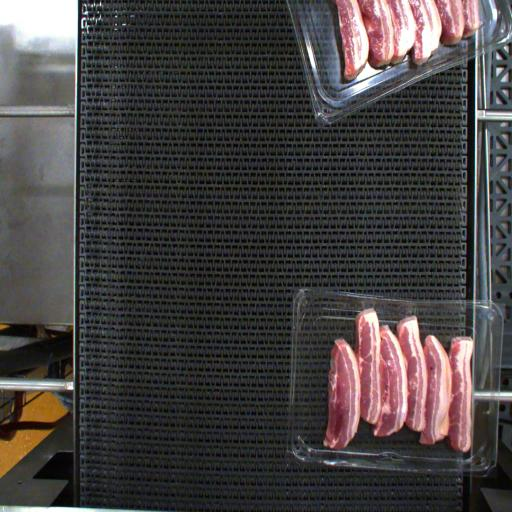packaging-error: (400, 297, 423, 326), (356, 291, 379, 318)
